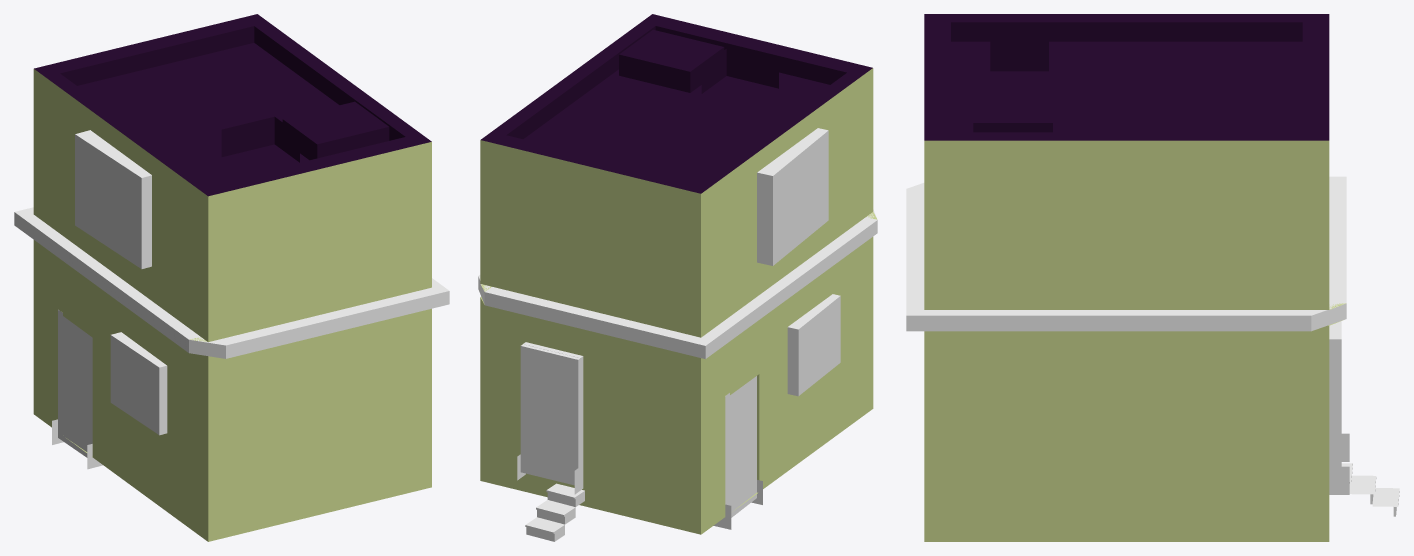
Rendered from greenHouse.gltf.
3 views of the same model, side by side, from view 1: azimuth 30°, elevation 25°; view 2: azimuth 150°, elevation 25°; view 3: azimuth 270°, elevation 25° (orthographic). The views are drawn at different scales.
Visible parts, largest first — view 1: Cube, CTRL_Hole.002, CTRL_Hole.001, CTRL_Hole; view 2: Cube, CTRL_Hole.003, CTRL_Hole.002, CTRL_Hole.001, CTRL_Hole, Stairs; view 3: Cube, CTRL_Hole.003, Stairs, DoorFrame.001, CTRL_Baseboard.001.
Boxes of the visible parts, bbox=[...] form: Cube: bbox=[14, 14, 449, 541]; CTRL_Hole.002: bbox=[75, 130, 151, 268]; CTRL_Hole.001: bbox=[110, 332, 167, 435]; CTRL_Hole: bbox=[58, 309, 96, 461]; Cube: bbox=[478, 14, 877, 534]; CTRL_Hole.003: bbox=[520, 342, 583, 485]; CTRL_Hole.002: bbox=[757, 128, 828, 265]; CTRL_Hole.001: bbox=[787, 294, 840, 396]; CTRL_Hole: bbox=[720, 376, 756, 522]; Stairs: bbox=[525, 483, 584, 541]; Cube: bbox=[906, 14, 1346, 541]; CTRL_Hole.003: bbox=[1329, 321, 1341, 466]; Stairs: bbox=[1341, 463, 1399, 516]; DoorFrame.001: bbox=[1330, 323, 1336, 466]; CTRL_Baseboard.001: bbox=[1329, 433, 1349, 494].
Size of the model in its own units: 128 by 182 by 188.
